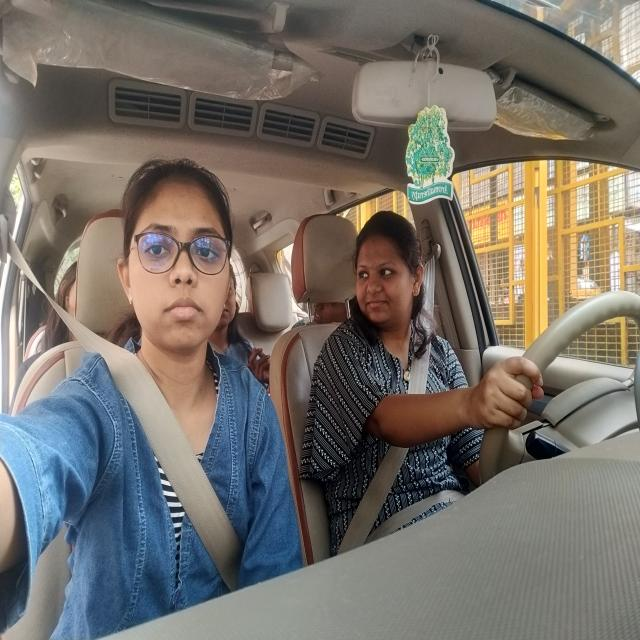LeftRight: (350, 209, 438, 374)
person: (112, 146, 242, 379)
